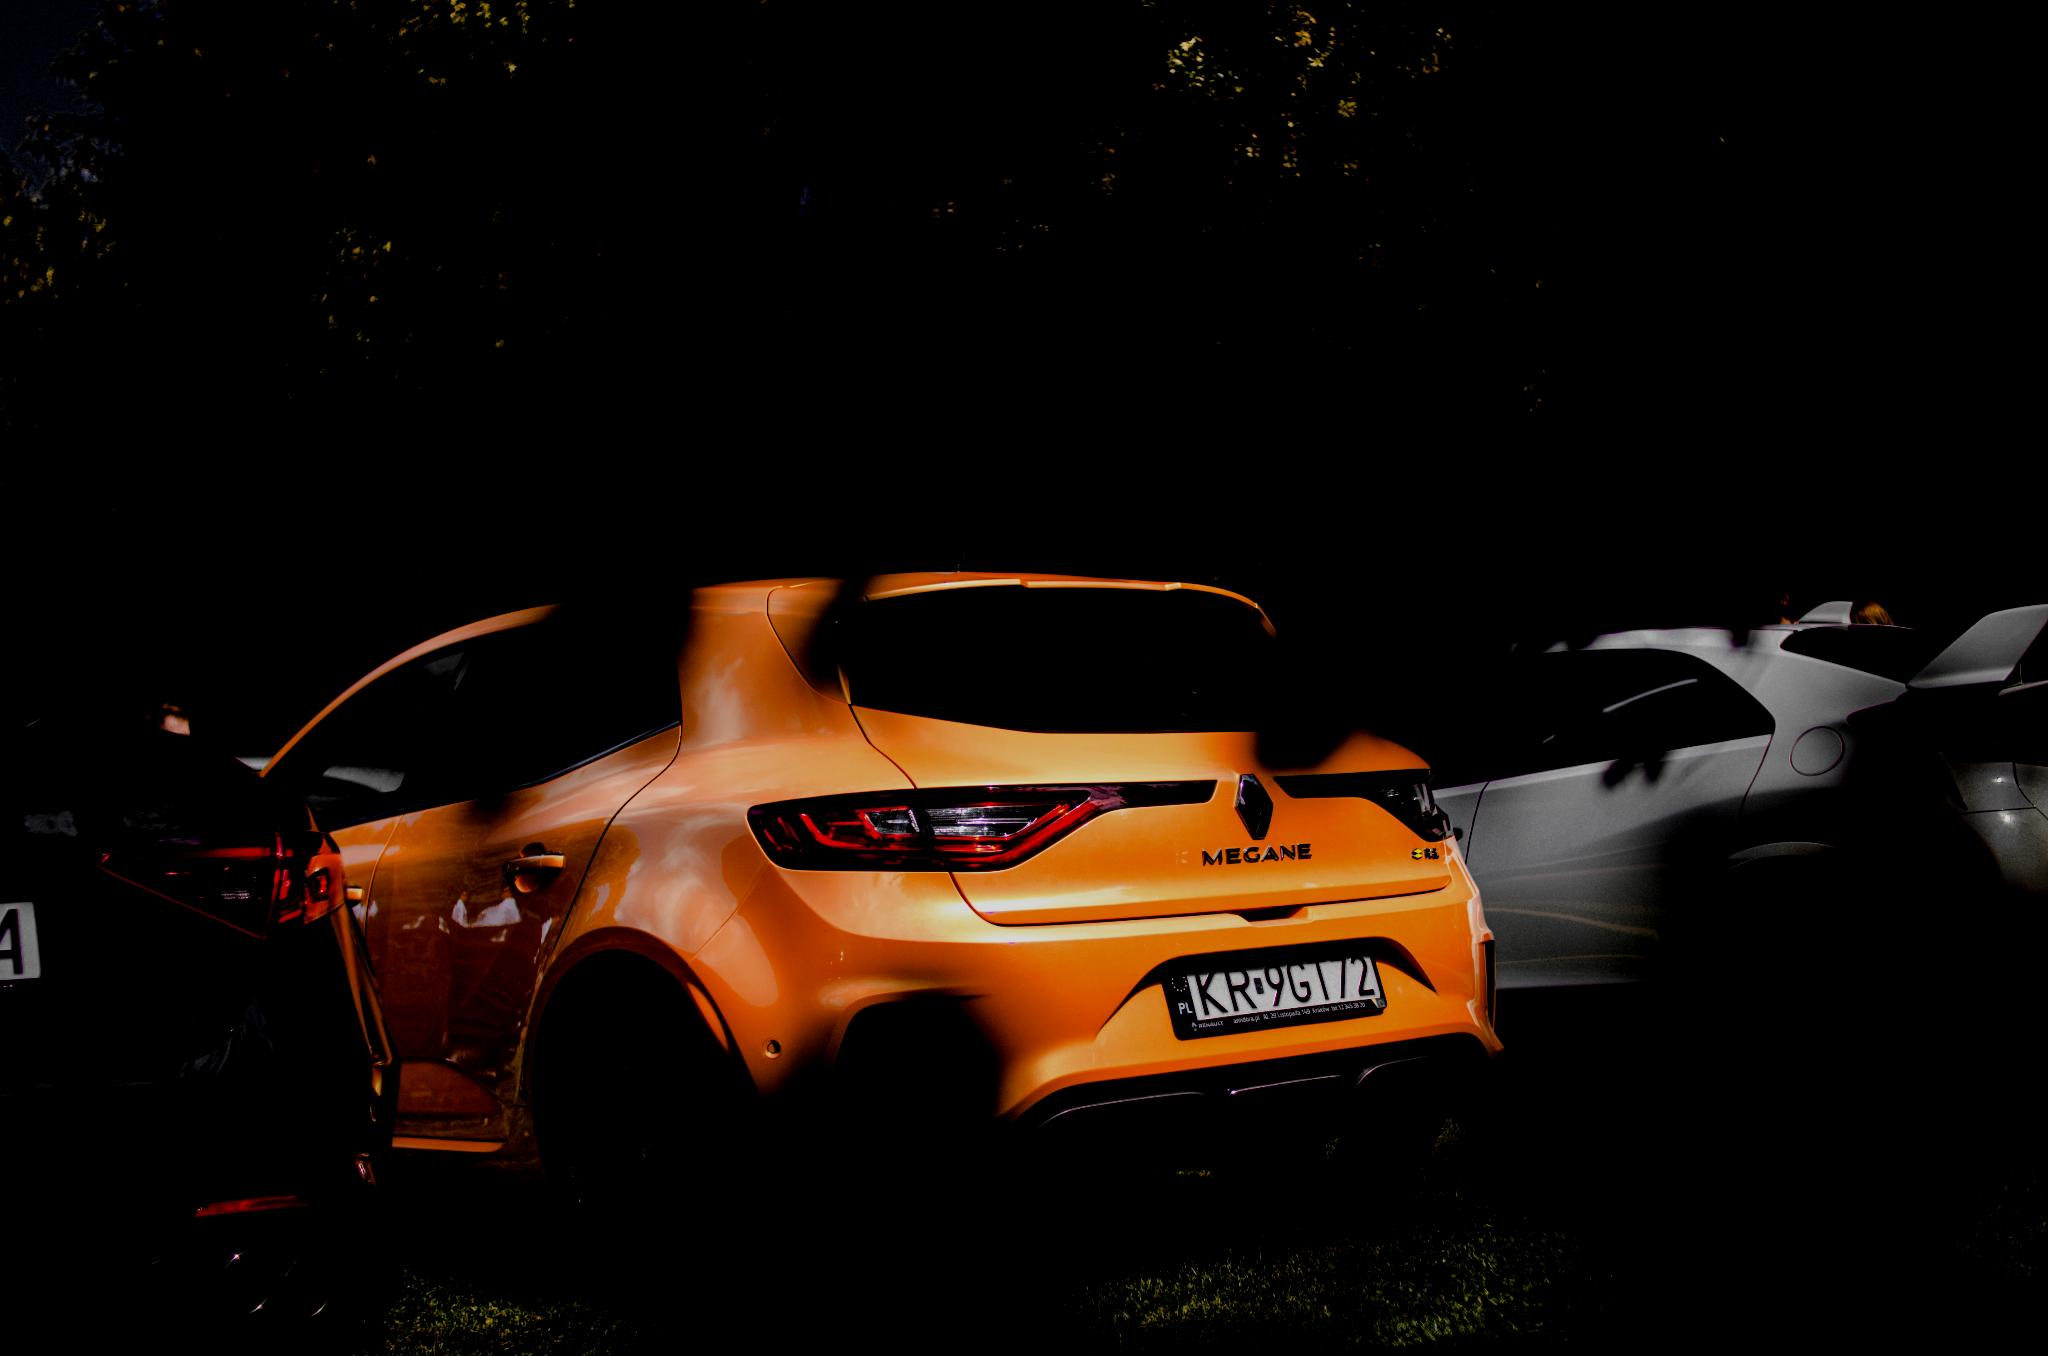Renault: (1218, 749, 1295, 857)
